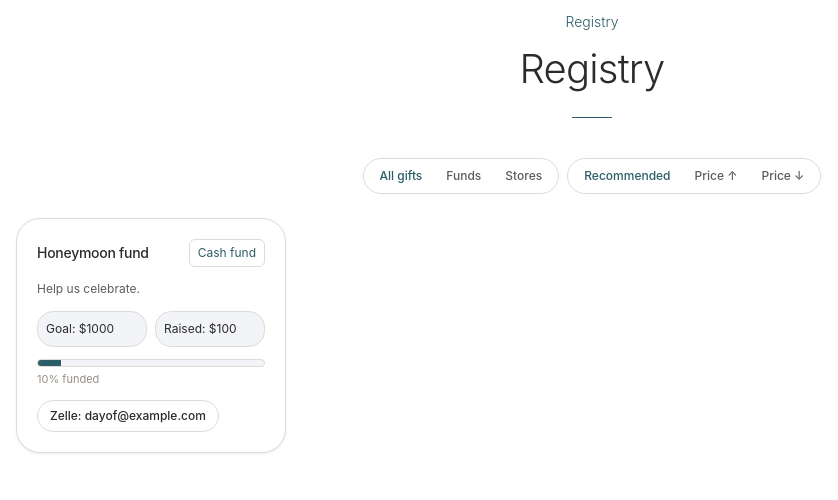
Scenario: RegistrySection › shows a retry state when public cash-fund Zelle copy fails
The image size is (838, 500).
What coordinates should you click on to do the following:
click the button "Zelle: dayof@example.com"
I would click on:
 (128, 416)
Its box is [37, 400, 219, 432].
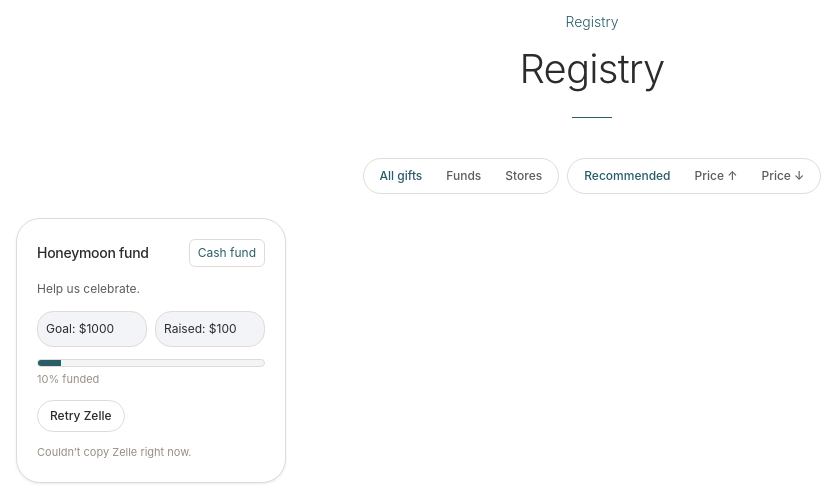
Expected: the text "Couldn’t copy Zelle right now." is shown, [37, 446, 192, 460]
Expected: the button "Retry Zelle" is shown, [37, 400, 124, 432]
